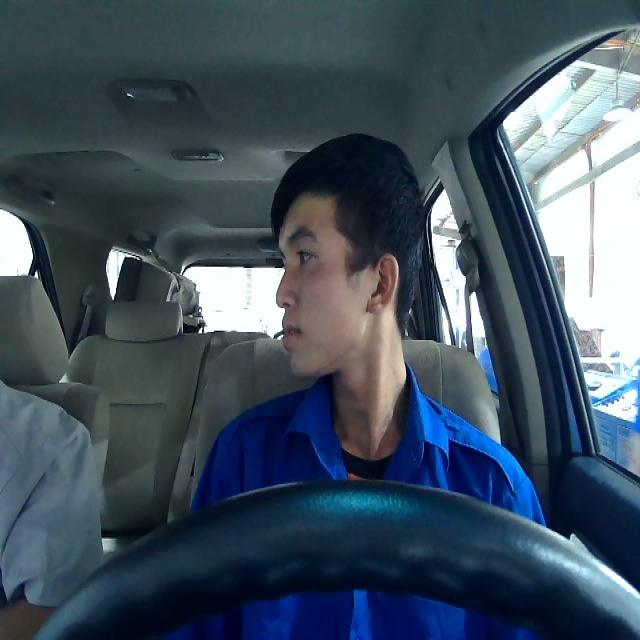seeing_left: (273, 183, 401, 381)
